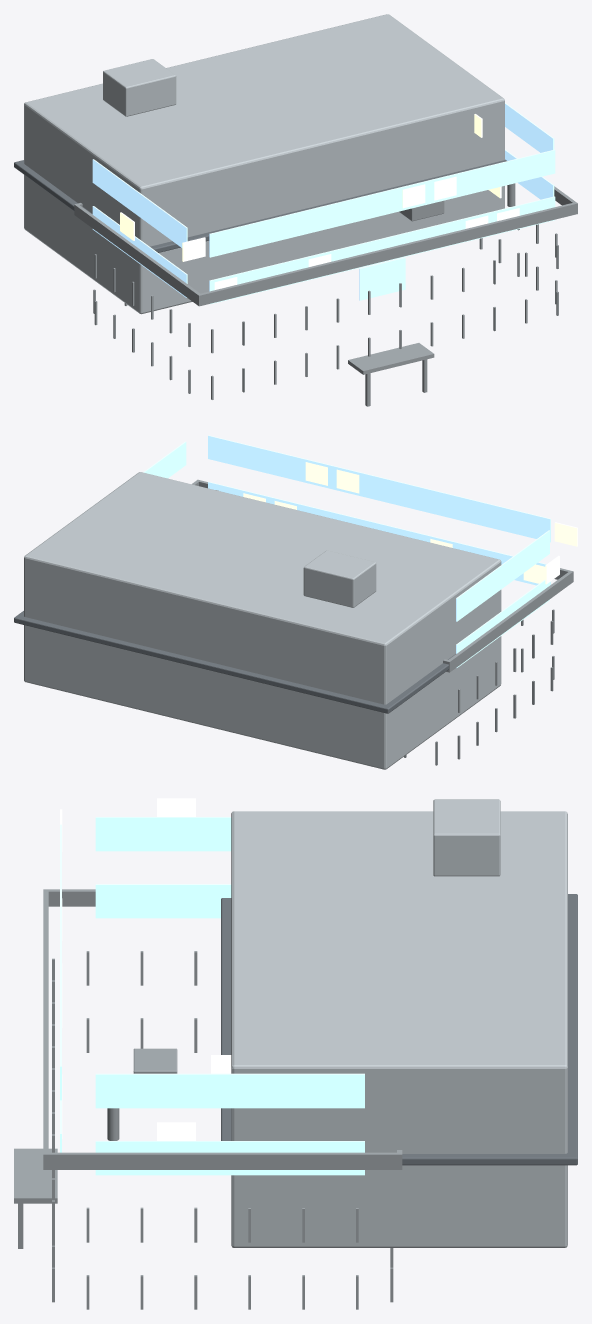
Rendered from factory.glb.
3 views of the same model, one above another, from view 1: azimuth 30°, elevation 25°; view 2: azimuth 150°, elevation 25°; view 3: azimuth 270°, elevation 25° (orthographic). The views are drawn at different scales.
Visible parts, largest first — view 1: wall_panel, glass_cool, trim_metal, window_lit, roof_slab; view 2: wall_panel, glass_cool, roof_slab, trim_metal, window_lit; view 3: wall_panel, glass_cool, trim_metal, roof_slab, window_lit.
Part boxes in pixels (<box>): wall_panel: <box>24,14,504,314</box>; glass_cool: <box>92,102,555,304</box>; trim_metal: <box>74,183,577,406</box>; window_lit: <box>120,114,519,289</box>; roof_slab: <box>14,159,506,252</box>; wall_panel: <box>24,472,501,769</box>; glass_cool: <box>143,435,550,667</box>; roof_slab: <box>14,611,455,713</box>; trim_metal: <box>192,479,573,765</box>; window_lit: <box>243,462,577,584</box>; wall_panel: <box>231,799,567,1247</box>; glass_cool: <box>60,817,364,1175</box>; trim_metal: <box>14,889,402,1309</box>; roof_slab: <box>221,894,577,1165</box>; window_lit: <box>60,798,231,1140</box>.
Bounding box in the file's own units: 39.87 × 22.3 × 33.5.
